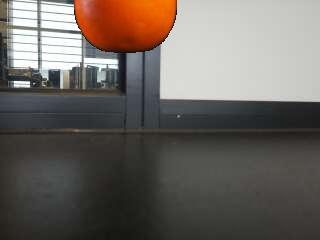Orange: (73, 0, 176, 54)
